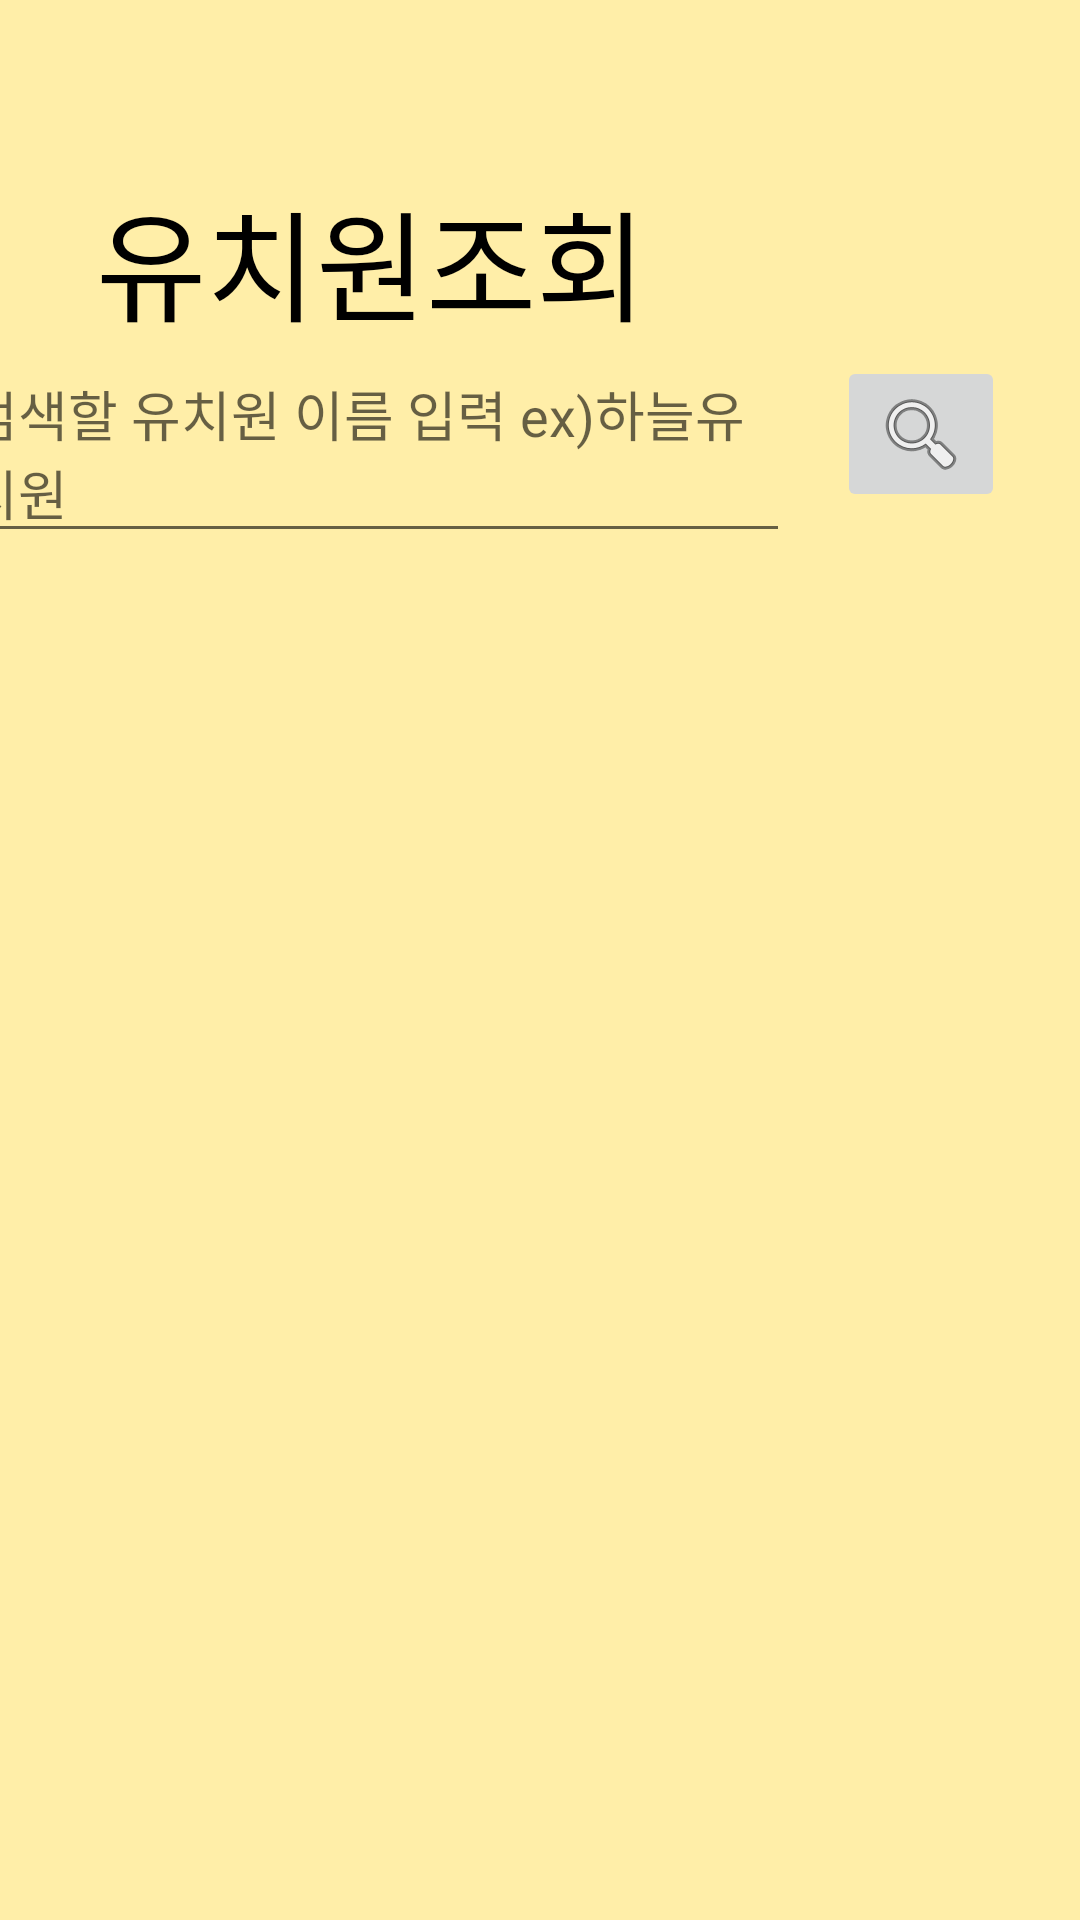

Where icons sit on this 1080px x 1920px app screen, as (x1, y1, x2, y2):
search: (849, 374, 993, 494)
